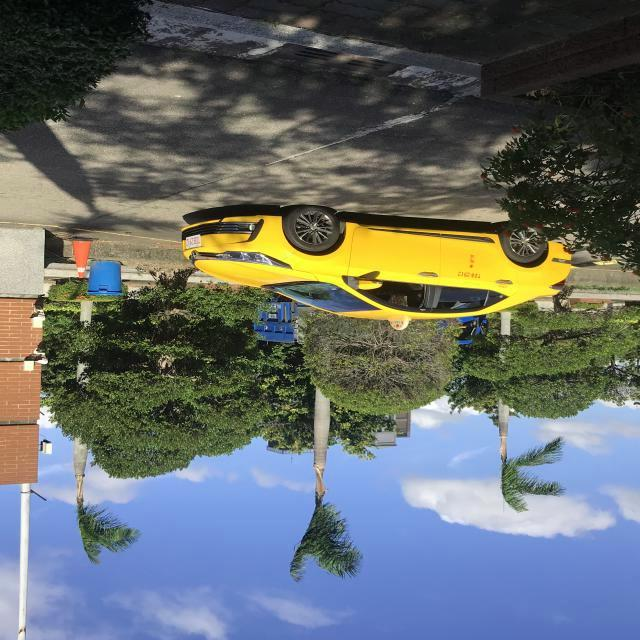taxi: (114, 152, 580, 364)
